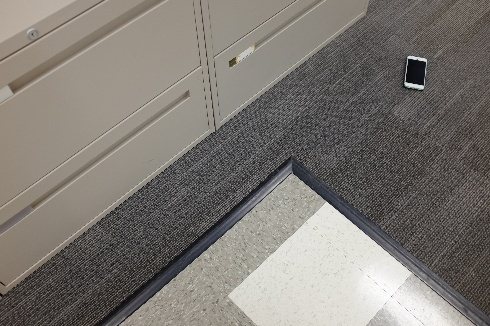phone: (390, 53, 439, 85)
